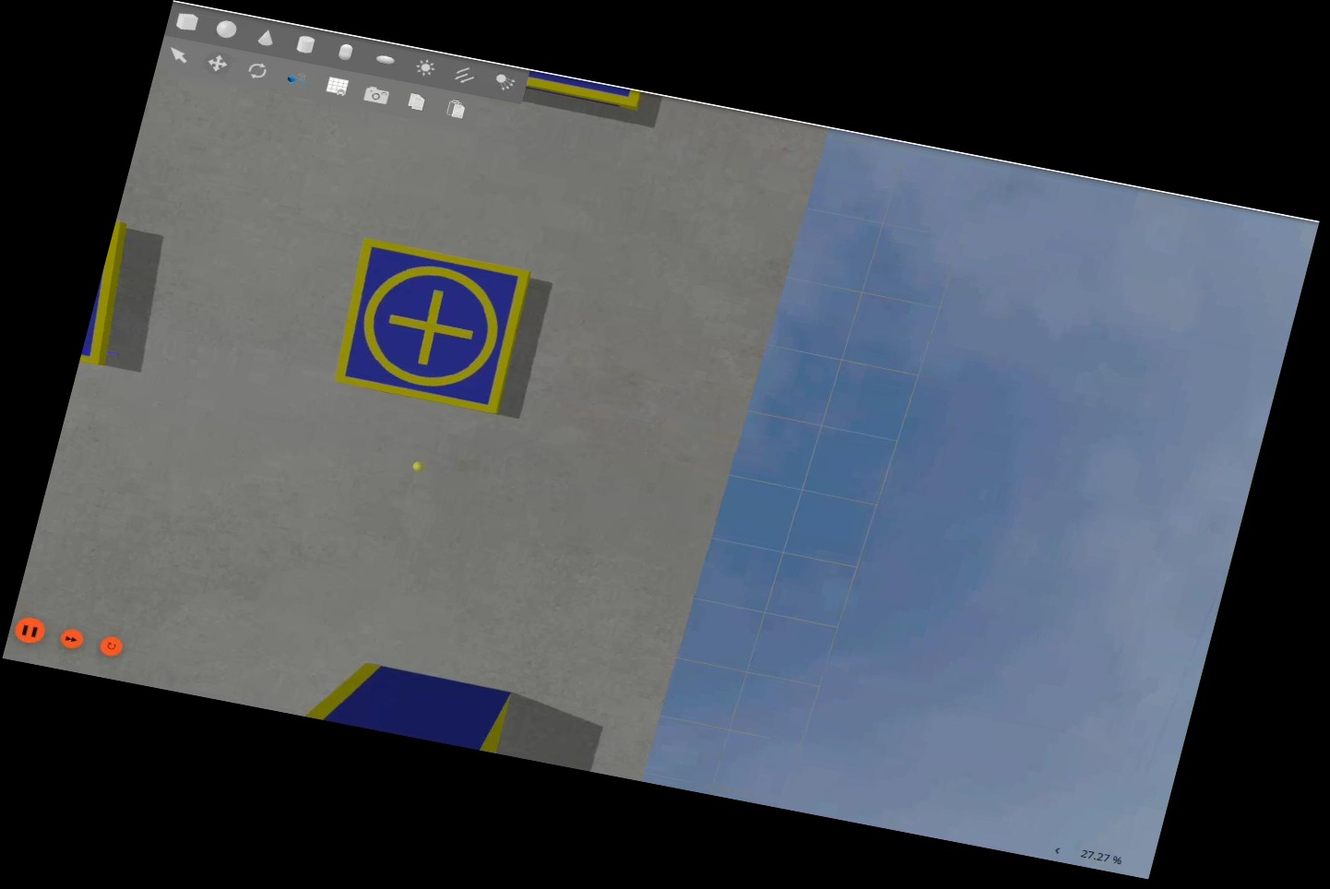small_base: (324, 235, 541, 421)
